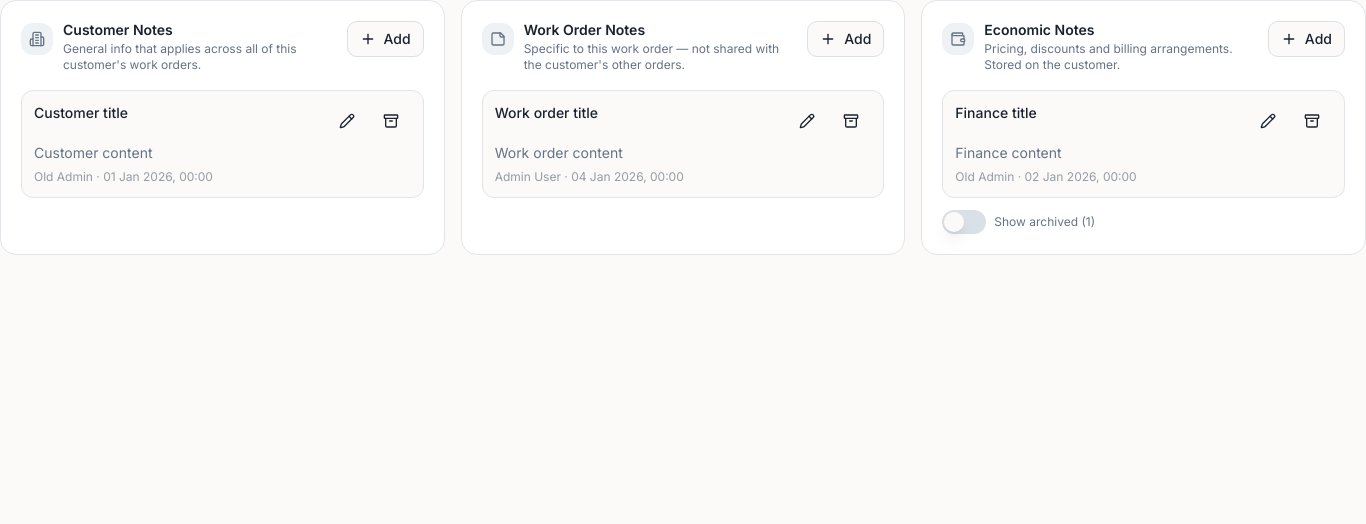
CORE-WRITES-CUSTOMERS-A1.5.1 WorkOrderDetails customer/economic notes › fails closed when customer or company scope is missing
Expected: the text "Customer Notes" is shown, [63,21,173,38]
Click the button "Add" in the row of "Customer Notes" at (385, 39), box [346,21,424,57]
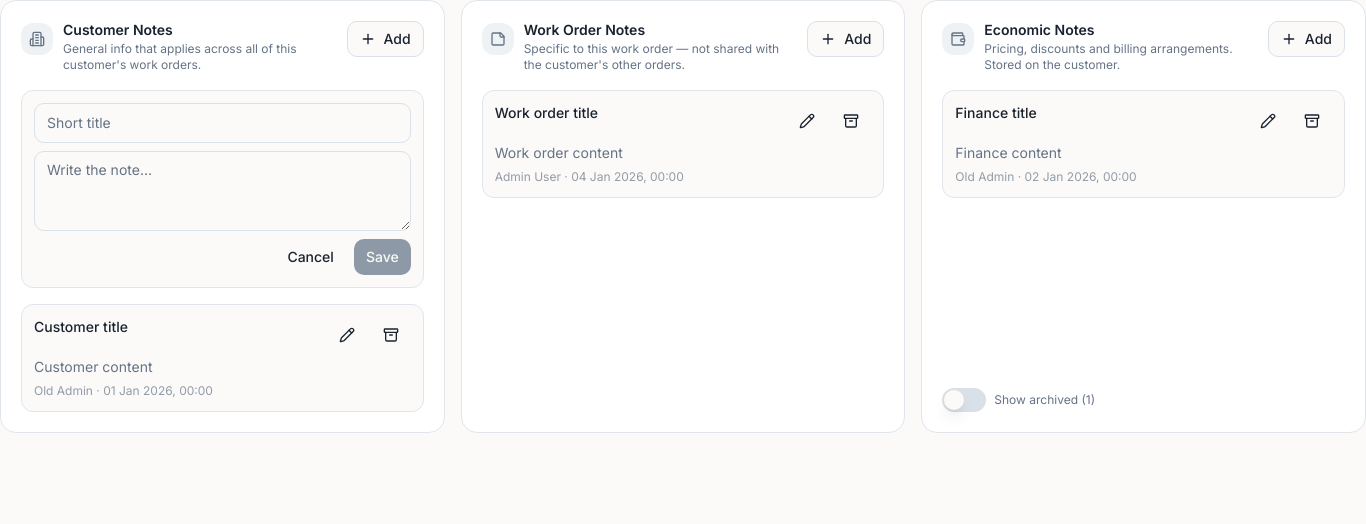
Type "Blocked note" into the field with placeholder "Short title" at (222, 122), box [34,102,411,142]
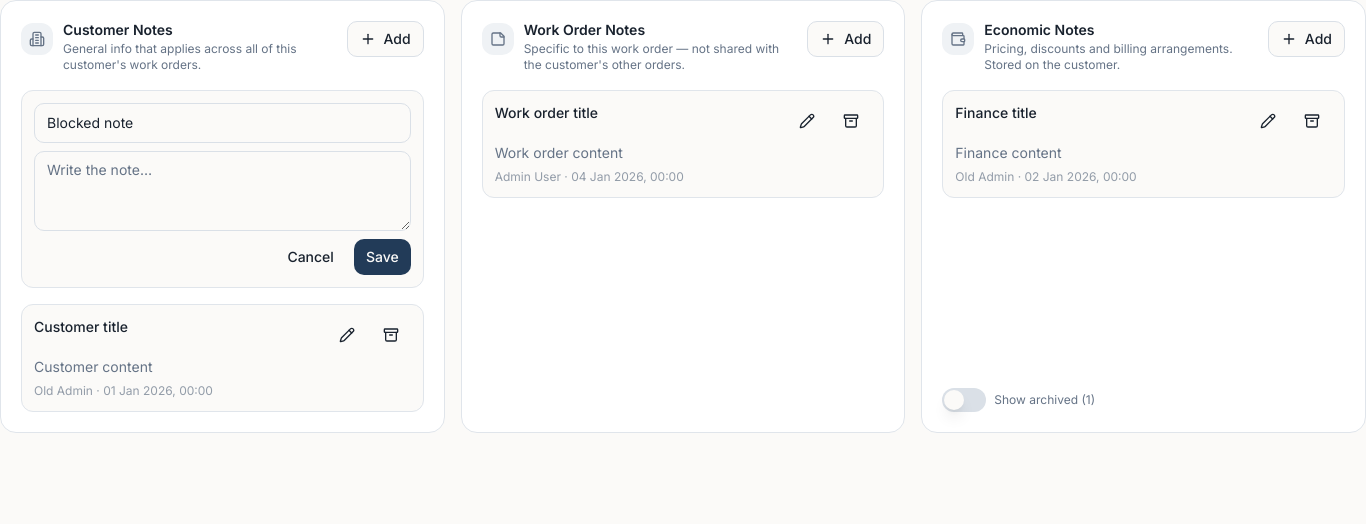
Click the button "Save" at (382, 256), box [354,238,411,274]
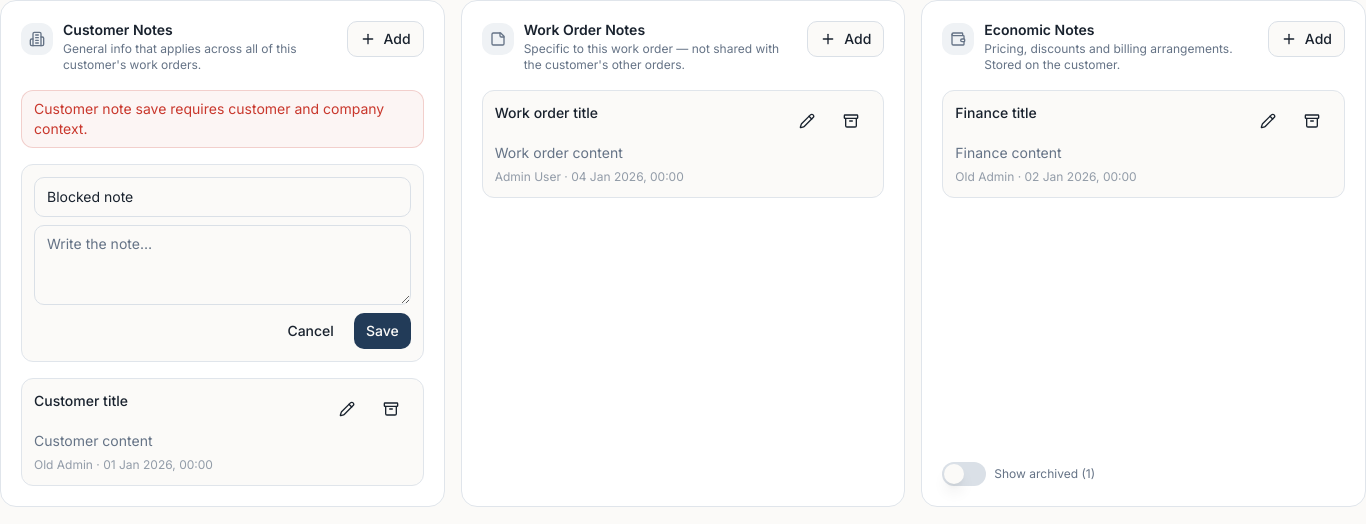
Now the message reads "Customer note save requires customer and company context.", box [34,100,384,136]
